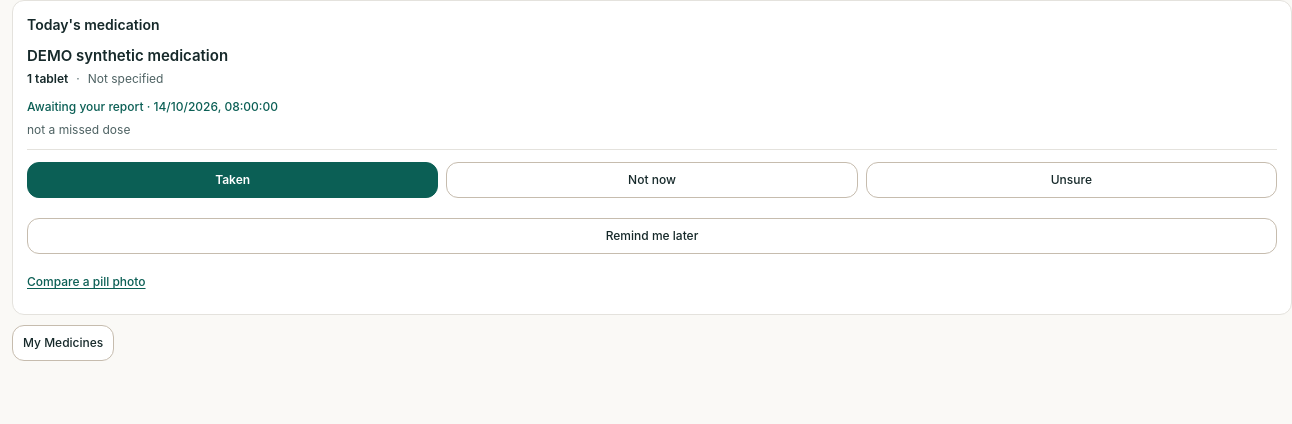
Test case: saves an occurrence-bound reminder without notification permission or dose reporting
Click the button "Remind me later": click(652, 236) [27,218,1277,254]
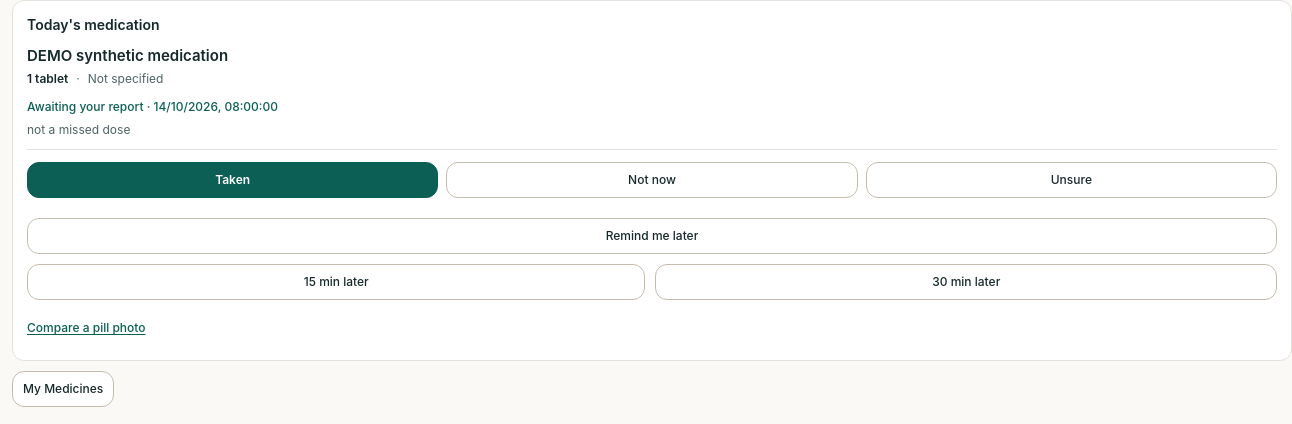
Click the button "15 min later": click(336, 282) [27,264,646,300]
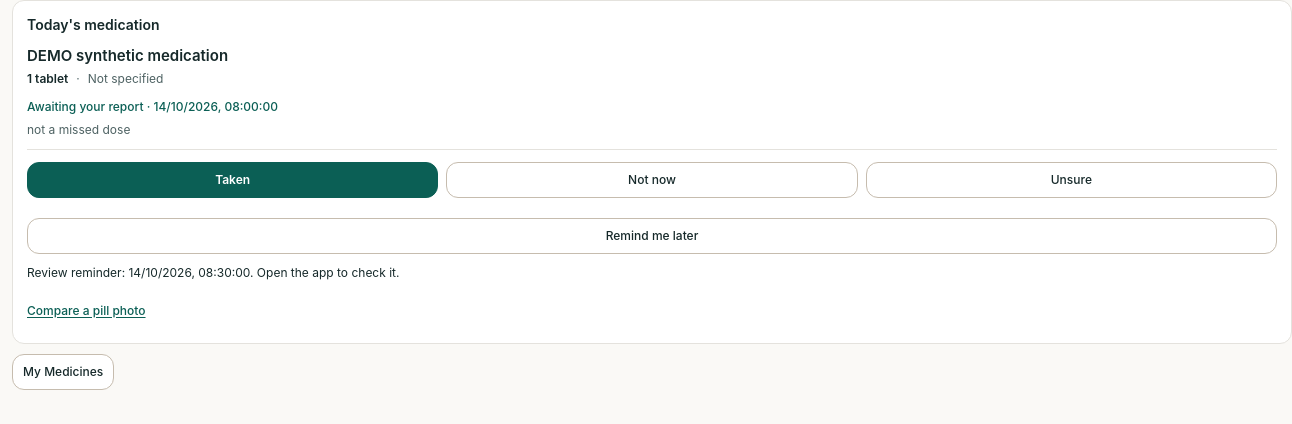
expect the text "Review reminder: 14/10/2026, 08:30:00. Open the app to check it." is shown: met, box [27,265,400,280]
